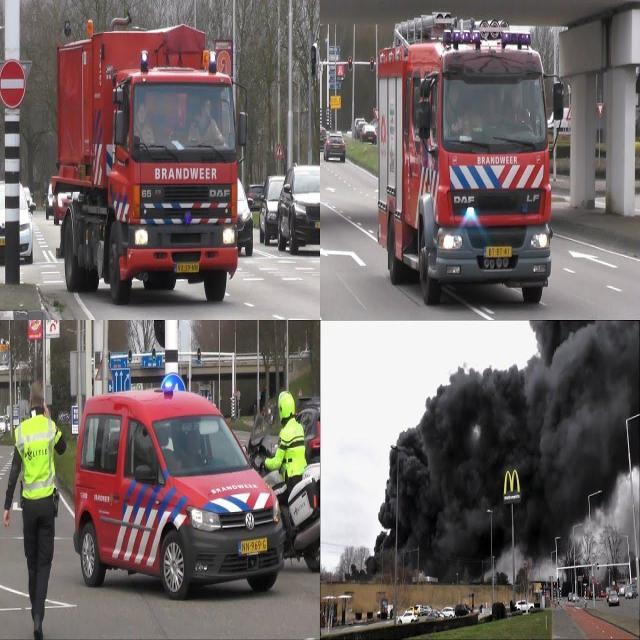Smoke: (343, 320, 640, 586)
